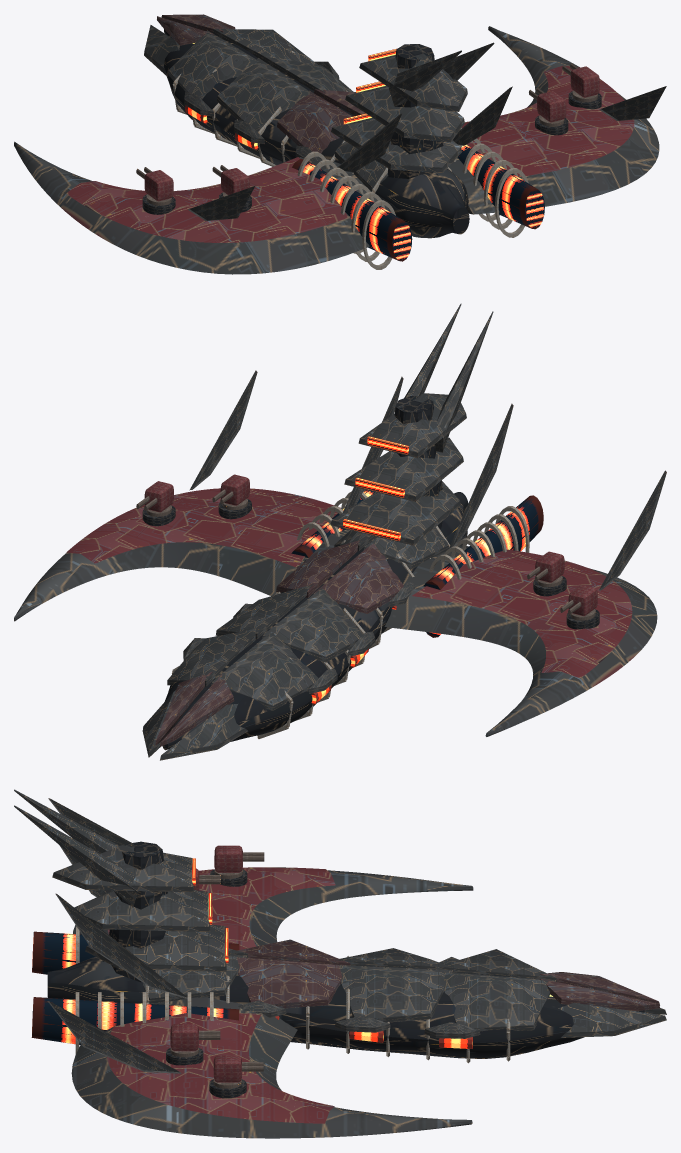
The model's file is dynasty_cruiser_recreated.glb.
The picture shows the model from 3 angles, top to bottom: view 1: azimuth 30°, elevation 25°; view 2: azimuth 150°, elevation 25°; view 3: azimuth 270°, elevation 25°; orthographic projection.
Parts seen in each view (by area): view 1: dynasty_cruiser_recreated; view 2: dynasty_cruiser_recreated; view 3: dynasty_cruiser_recreated.
Boxes of the visible parts, x1,y1,x2,y2 form: dynasty_cruiser_recreated: [14, 14, 666, 274]; dynasty_cruiser_recreated: [14, 303, 666, 760]; dynasty_cruiser_recreated: [14, 789, 666, 1138].
Size of the model in its own units: 2.73 by 1.21 by 2.85.
Materials: 1 (1 with a texture image).
